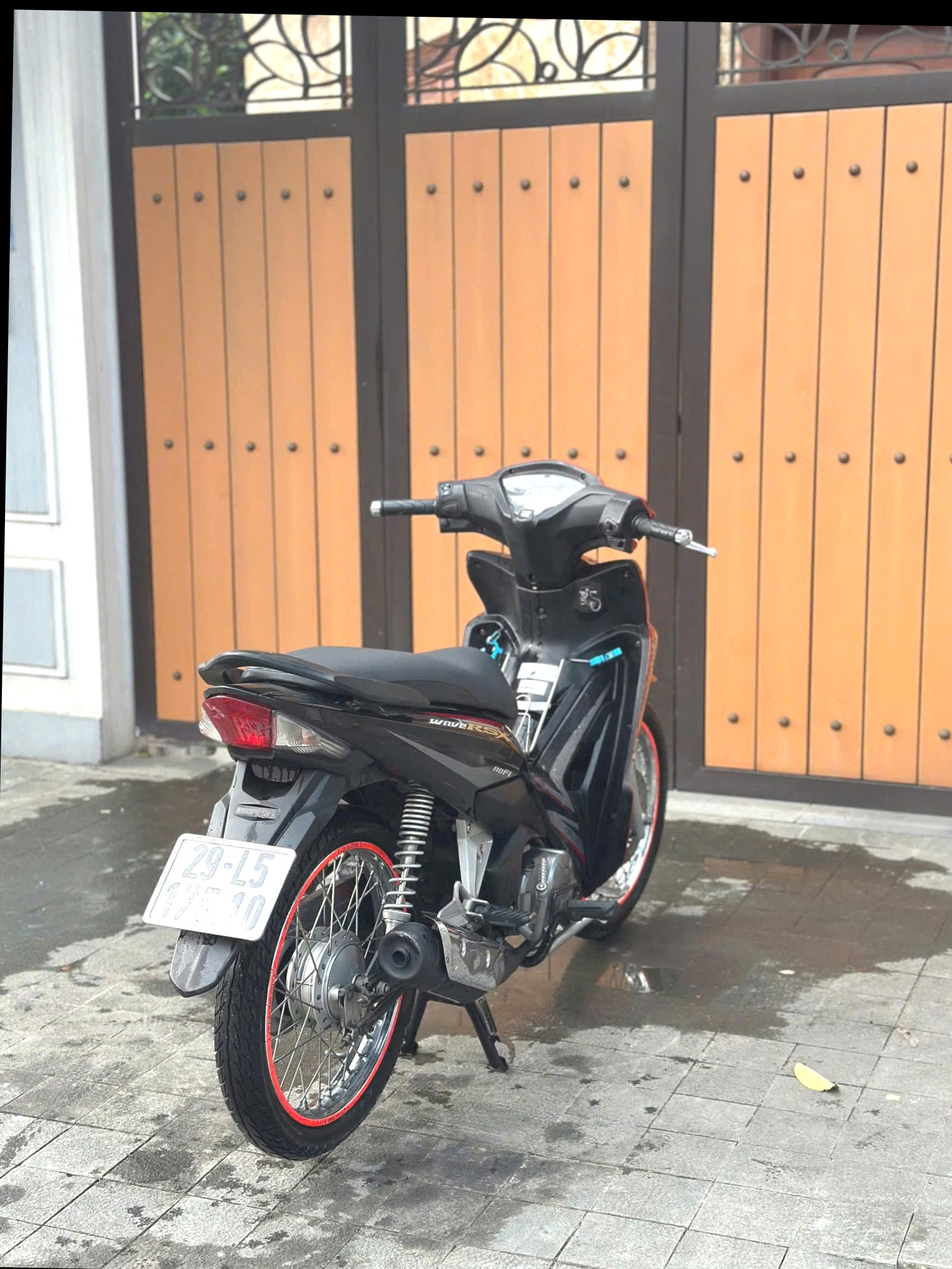Bien-so: (141, 789, 289, 912)
